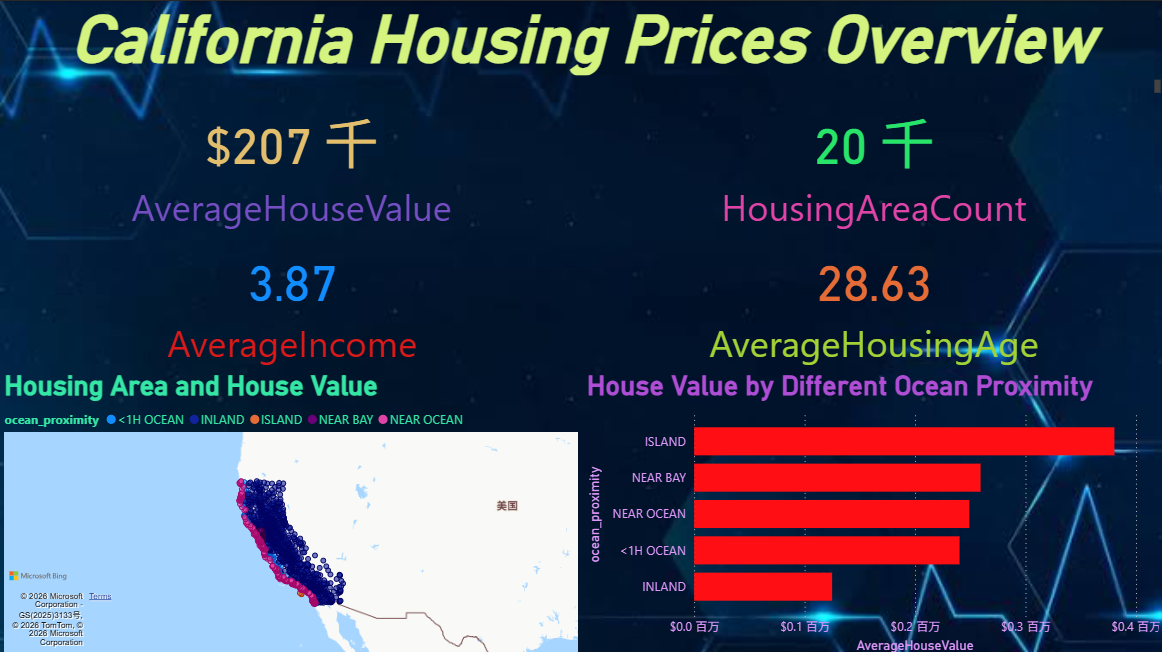

The dashboard page shown, as its layout file describes it:
{"tool":"powerbi","page":{"name":"House Value Overview","canvas":[1280,720],"ordinal":0},"visuals":[{"type":"card","title":"平均房价中位数","fields":{"Values":["FactHousing.AverageHouseValue"]},"box":[0,105.7,640.8,149.6],"z":0},{"type":"card","title":"平均房龄中位数","fields":{"Values":["FactHousing.AverageHousingAge"]},"box":[639.5,255.2,640.8,149.6],"z":1000},{"type":"card","title":"平均收入指标","fields":{"Values":["FactHousing.AverageIncome"]},"box":[1.4,255.2,639.5,149.6],"z":2000},{"type":"card","title":"区域记录数","fields":{"Values":["FactHousing.HousingAreaCount"]},"box":[639.5,105.7,640.8,149.6],"z":3000},{"type":"textbox","title":"California Housing Prices Overview","box":[0,0,1280.3,105.7],"z":4000},{"type":"map","title":"Housing Area and House Value","fields":{"Y":["FactHousing.latitude"],"X":["FactHousing.longitude"],"Series":["DimOceanProximity.ocean_proximity"]},"box":[0,404.8,639.5,315.6],"z":5000},{"type":"clusteredBarChart","title":"House Value by Different  Ocean Proximity","fields":{"Category":["FactHousing.ocean_proximity"],"Y":["FactHousing.AverageHouseValue"]},"box":[639.5,404.8,640.8,315.6],"z":6000}]}

Visuals, with their boxes in screenshot pixels (x1, y1, x2, y2), scaled from the page's 1280x720 canvas onto the 1162x652 screenshot:
"平均房价中位数" card: left=0, top=96, right=582, bottom=231
"平均房龄中位数" card: left=581, top=231, right=1161, bottom=367
"平均收入指标" card: left=1, top=231, right=582, bottom=367
"区域记录数" card: left=581, top=96, right=1161, bottom=231
"California Housing Prices Overview" textbox: left=0, top=0, right=1161, bottom=96
"Housing Area and House Value" map: left=0, top=367, right=581, bottom=651
"House Value by Different  Ocean Proximity" clusteredBarChart: left=581, top=367, right=1161, bottom=651
